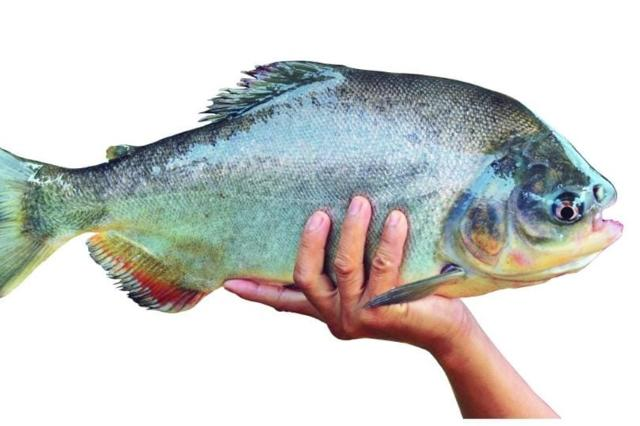Mulut: (540, 158, 640, 282)
Sirip Anal: (72, 213, 225, 339)
Sirip Dada: (357, 252, 483, 338)
Sirip Ekor: (0, 110, 82, 326)
Sirip Punggung: (174, 41, 382, 135)
